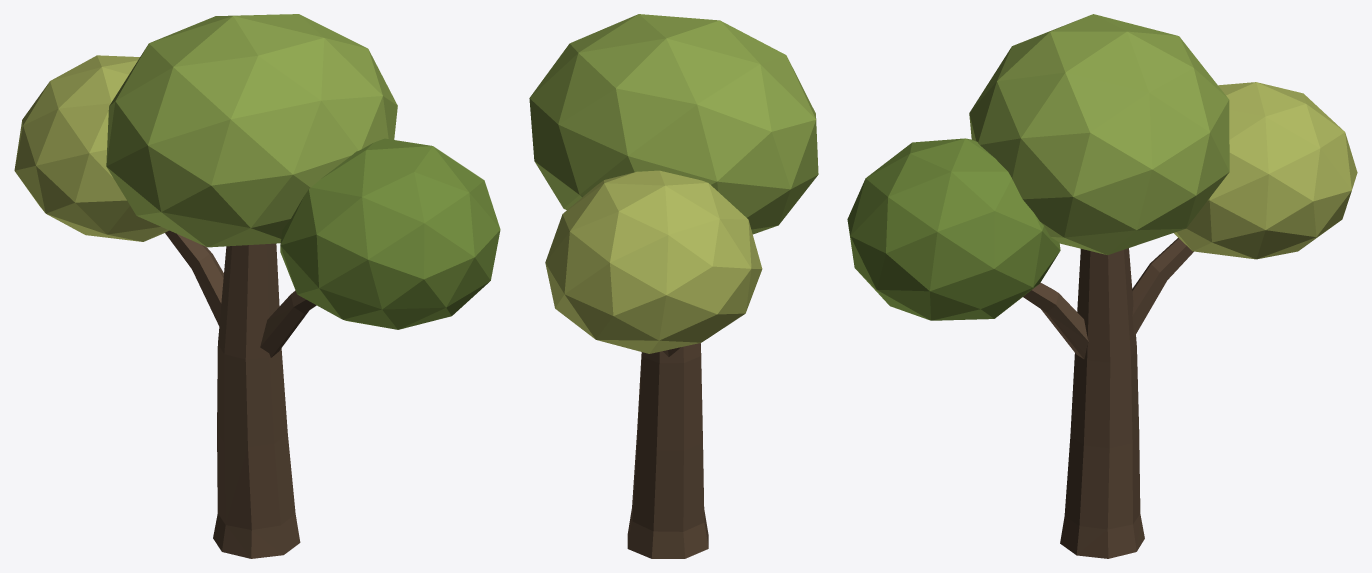
3 views of the same model, side by side, from view 1: azimuth 30°, elevation 25°; view 2: azimuth 150°, elevation 25°; view 3: azimuth 270°, elevation 25° (orthographic). The views are drawn at different scales.
Visible parts, largest first — view 1: crown, trunk; view 2: crown, trunk; view 3: crown, trunk.
Boxes of the visible parts, box(x1,y1,x2,y2) form: crown: box(14, 14, 500, 329); trunk: box(165, 230, 316, 558); crown: box(529, 14, 818, 353); trunk: box(627, 343, 708, 558); crown: box(847, 14, 1357, 320); trunk: box(1023, 238, 1193, 558).
Size of the model in its own units: 2.95 by 4.8 by 4.4.
